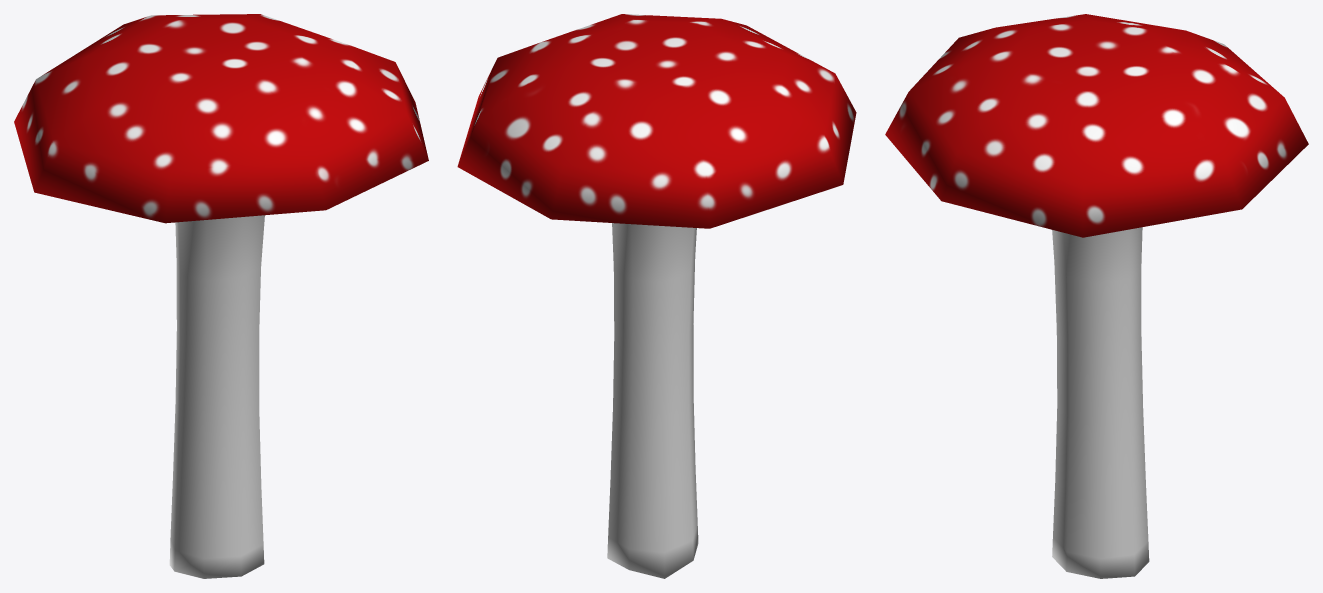
File: RedShroom.fbx
3 renders of one model, left to right at view 1: azimuth 30°, elevation 25°; view 2: azimuth 150°, elevation 25°; view 3: azimuth 270°, elevation 25°, orthographic. The views are drawn at different scales.
Visible parts, largest first — view 1: mushroom 1 .002; view 2: mushroom 1 .002; view 3: mushroom 1 .002.
Boxes of the visible parts, x1=… form: mushroom 1 .002: x1=14, y1=14, x2=428, y2=578; mushroom 1 .002: x1=457, y1=14, x2=856, y2=578; mushroom 1 .002: x1=885, y1=14, x2=1308, y2=578.
Size of the model in its own units: 72.13 by 95.22 by 70.64.
Materials: 2 (1 with a texture image).
